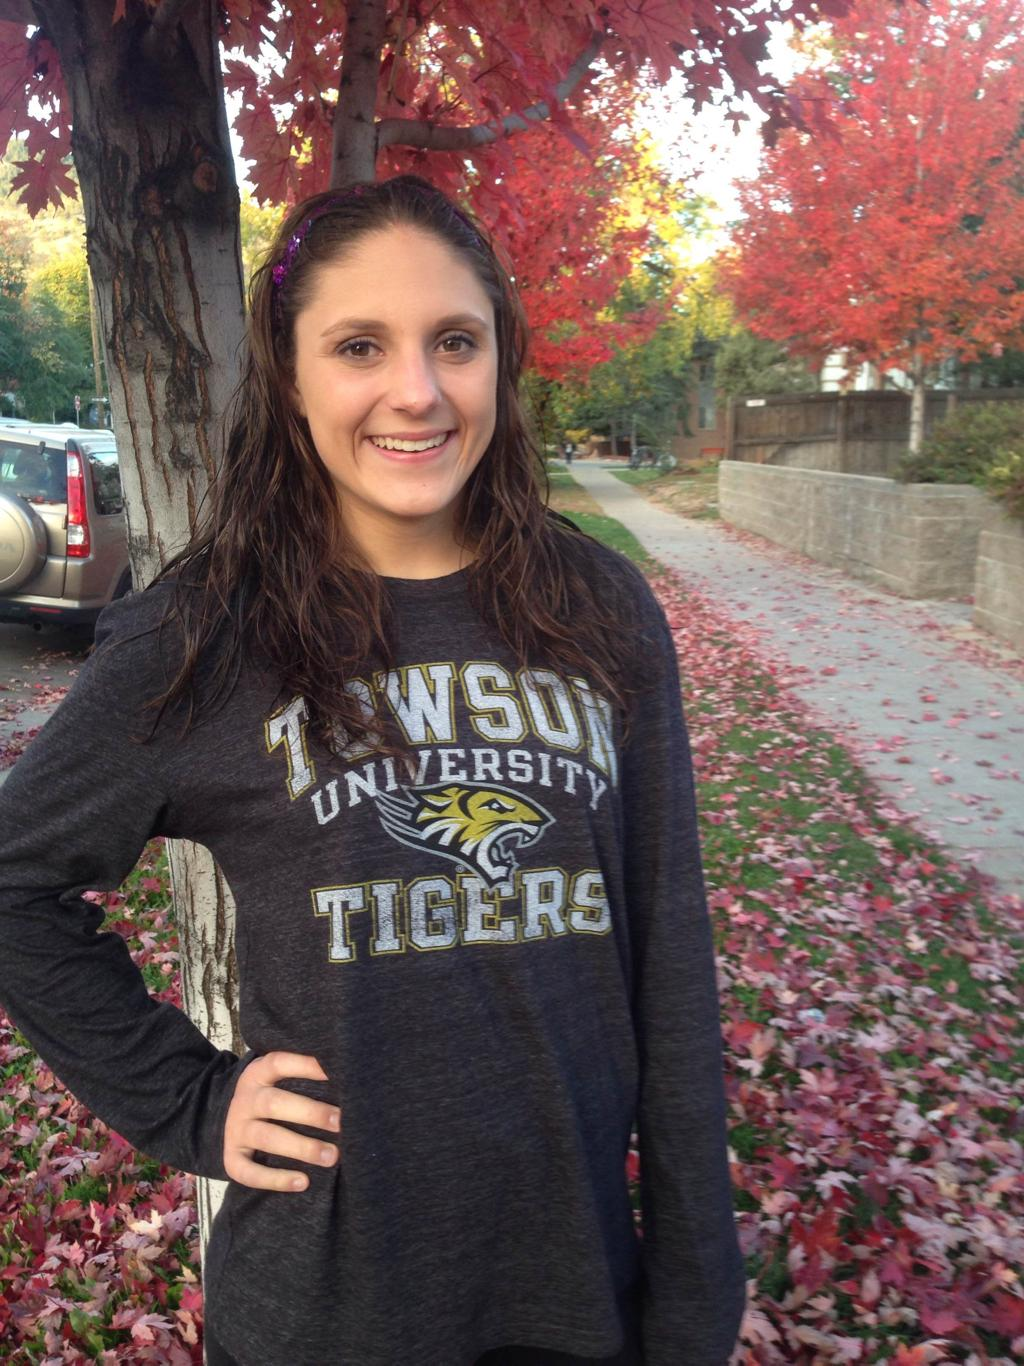face: (293, 264, 498, 496)
